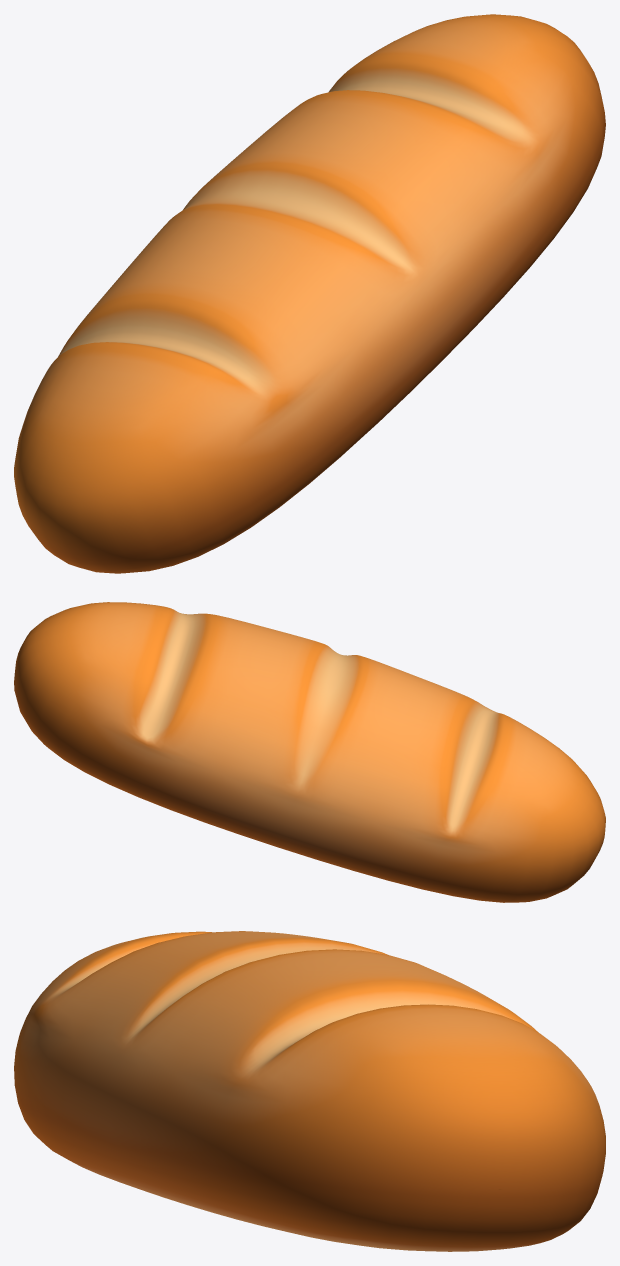
The model's file is Bread.fbx.
3 views of the same model, one above another, from view 1: azimuth 30°, elevation 25°; view 2: azimuth 150°, elevation 25°; view 3: azimuth 270°, elevation 25° (orthographic). The views are drawn at different scales.
Visible parts, largest first — view 1: Cube.004; view 2: Cube.004; view 3: Cube.004.
Part boxes in pixels (x1=…): Cube.004: x1=14, y1=14, x2=605, y2=573; Cube.004: x1=14, y1=602, x2=605, y2=902; Cube.004: x1=14, y1=931, x2=605, y2=1251.
Size of the model in its own units: 152 by 72.52 by 95.7.
